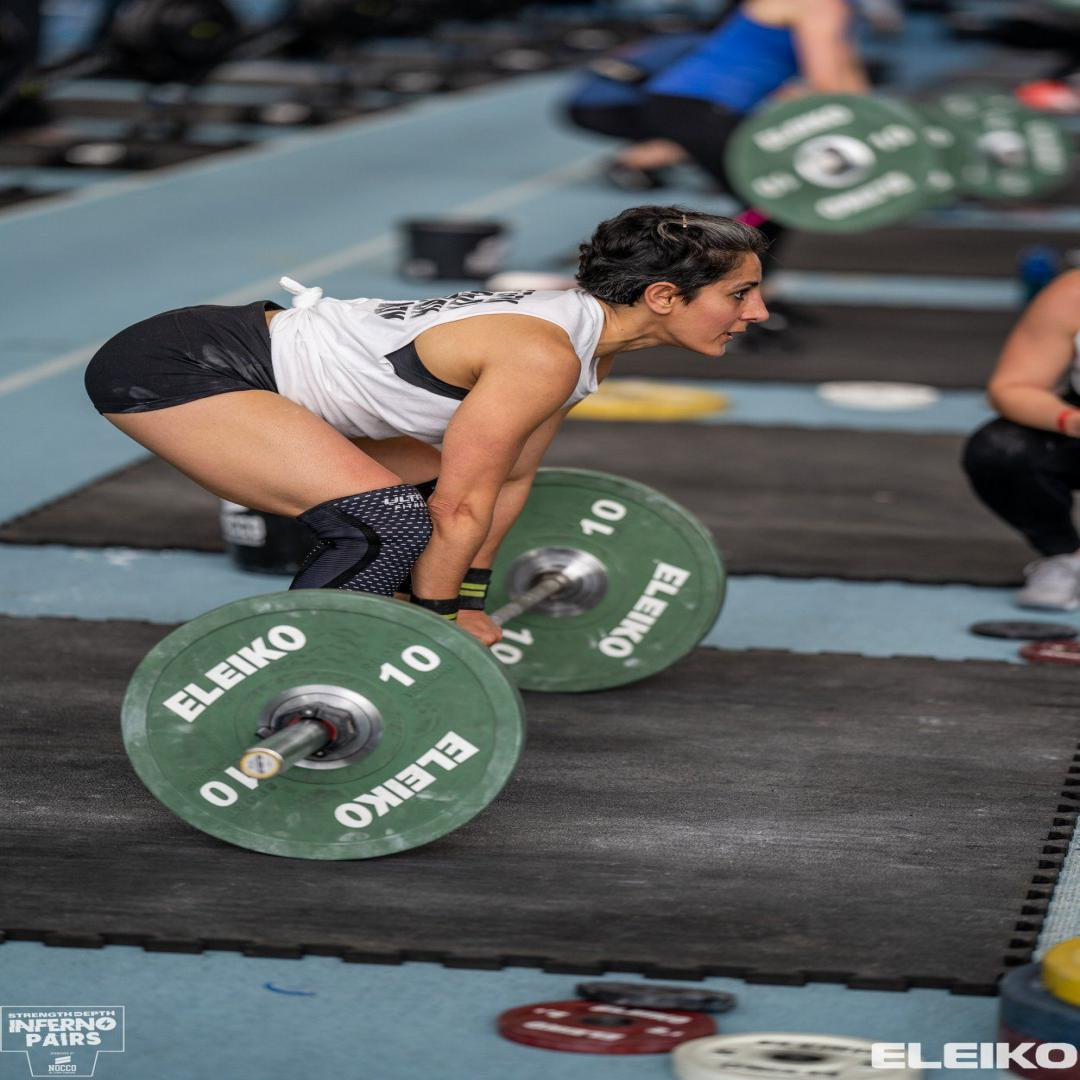Bar: (235, 746, 282, 785)
Barbell: (127, 591, 525, 856)
